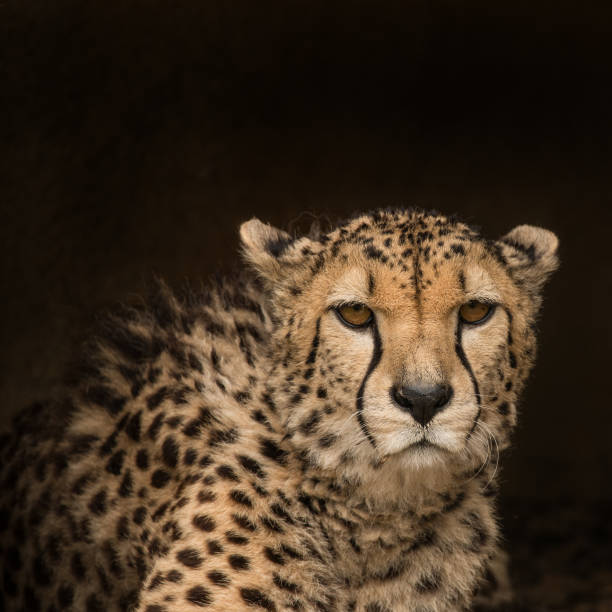cheetah: (221, 185, 561, 537)
